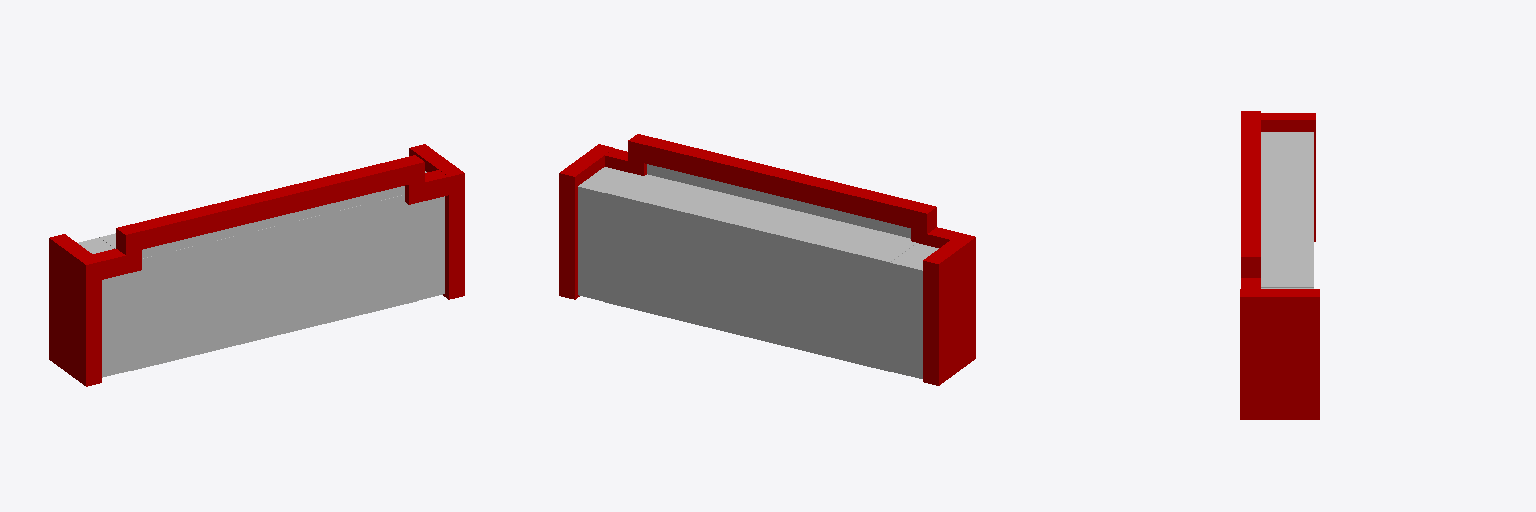
Rendered from receptie.obj.
The picture shows the model from 3 angles: view 1: azimuth 30°, elevation 25°; view 2: azimuth 150°, elevation 25°; view 3: azimuth 270°, elevation 25°; orthographic projection.
Visible parts, largest first — view 1: Cube.009, Cube.011, Cube.003, Cube, Cube.007, Cube.008, Cube.006, Cube.010, Cube.001, Cube.005; view 2: Cube.009, Cube.011, Cube.003, Cube, Cube.007, Cube.008, Cube.006, Cube.010, Cube.001, Cube.005; view 3: Cube.006, Cube.011, Cube.003, Cube, Cube.007.
Part boxes in pixels (bbox=[...]): Cube.009: bbox=[132, 195, 417, 370]; Cube.011: bbox=[99, 195, 417, 345]; Cube.003: bbox=[116, 155, 424, 253]; Cube: bbox=[49, 234, 101, 386]; Cube.007: bbox=[78, 238, 141, 377]; Cube.008: bbox=[403, 171, 444, 303]; Cube.006: bbox=[409, 144, 464, 299]; Cube.010: bbox=[142, 186, 404, 258]; Cube.001: bbox=[77, 249, 141, 283]; Cube.005: bbox=[405, 170, 448, 204]; Cube.009: bbox=[605, 197, 889, 371]; Cube.011: bbox=[605, 173, 915, 342]; Cube.003: bbox=[628, 134, 936, 231]; Cube: bbox=[923, 240, 975, 385]; Cube.007: bbox=[880, 243, 938, 378]; Cube.008: bbox=[578, 167, 630, 304]; Cube.006: bbox=[559, 144, 613, 299]; Cube.010: bbox=[647, 164, 910, 238]; Cube.001: bbox=[911, 227, 975, 261]; Cube.005: bbox=[605, 148, 642, 174]; Cube.006: bbox=[1240, 289, 1319, 419]; Cube.011: bbox=[1261, 148, 1313, 287]; Cube.003: bbox=[1241, 111, 1260, 275]; Cube: bbox=[1261, 113, 1315, 241]; Cube.007: bbox=[1261, 132, 1313, 147].
Bounding box in the file's own units: 6.95 × 2.52 × 1.26.